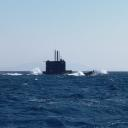submarine: (29, 63, 98, 77)
